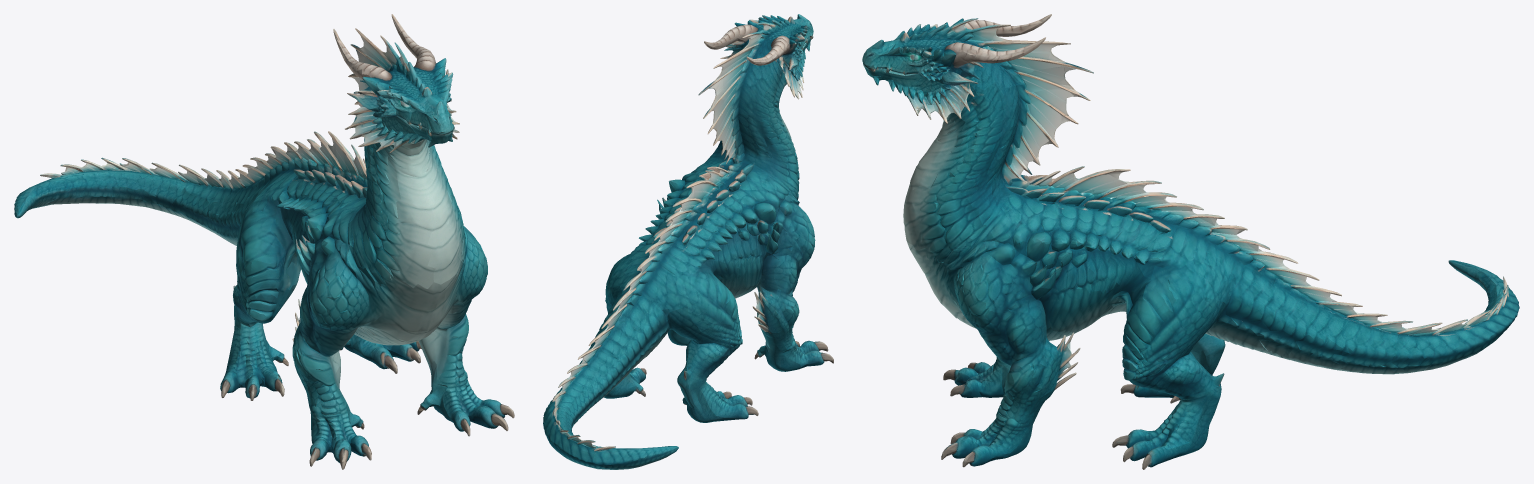
The model's file is aquaryn_r9_meshy.glb.
3 views of the same model, side by side, from view 1: azimuth 30°, elevation 25°; view 2: azimuth 150°, elevation 25°; view 3: azimuth 270°, elevation 25° (orthographic). The views are drawn at different scales.
Parts seen in each view (by area): view 1: Mesh_0; view 2: Mesh_0; view 3: Mesh_0.
Boxes of the visible parts, left/top/right/bottom form: Mesh_0: left=14, top=14, right=514, bottom=469; Mesh_0: left=543, top=14, right=833, bottom=469; Mesh_0: left=862, top=14, right=1519, bottom=469.
Size of the model in its own units: 0.8522 by 1.27 by 1.9.
1 material, 1 textured.
